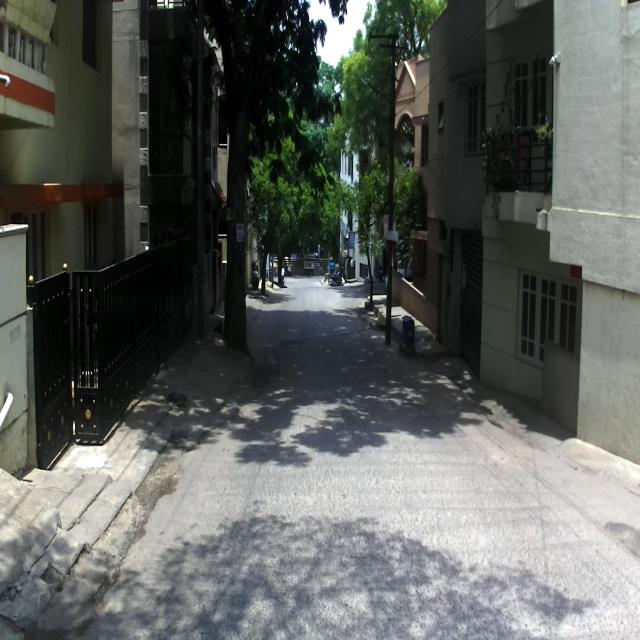tree ahead at: (218, 88, 256, 349)
